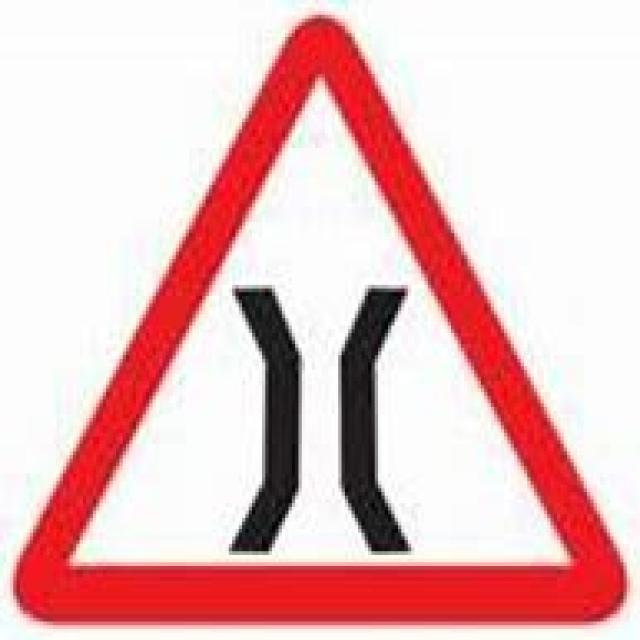narrow bridge ahead: (25, 20, 619, 616)
